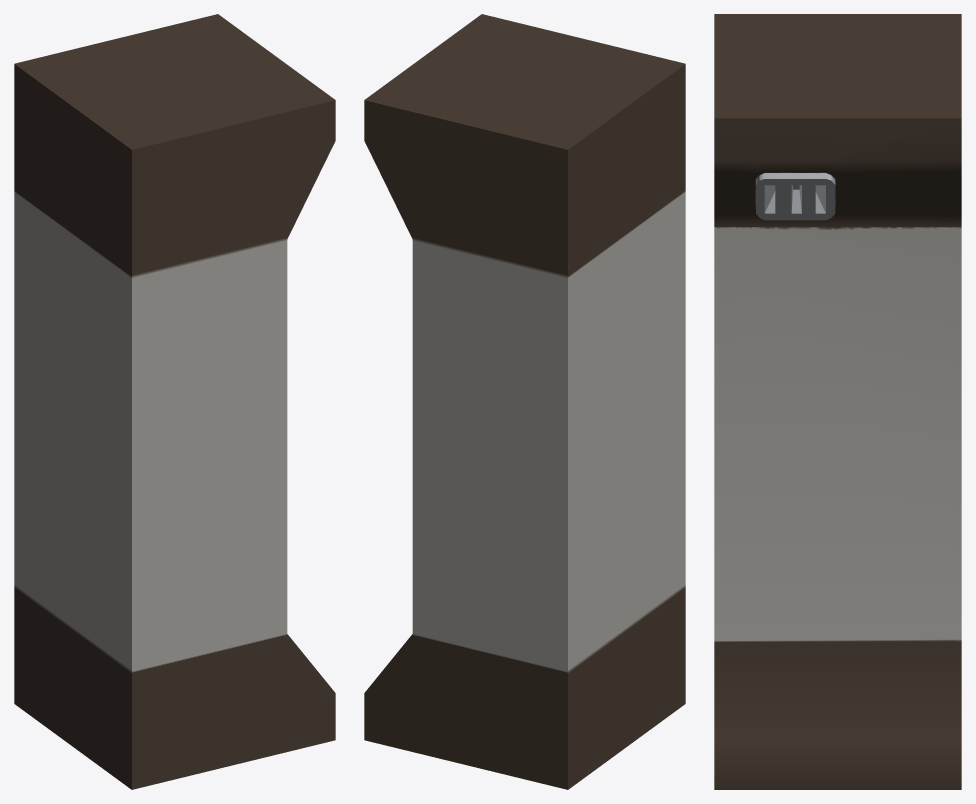
The model's file is Vent_Wall.fbx.
3 renders of one model, left to right at view 1: azimuth 30°, elevation 25°; view 2: azimuth 150°, elevation 25°; view 3: azimuth 270°, elevation 25°, orthographic. The views are drawn at different scales.
Parts seen in each view (by area): view 1: Wall_Ver_VENT:pCube1; view 2: Wall_Ver_VENT:pCube1; view 3: Wall_Ver_VENT:pCube1.
Boxes of the visible parts, x1=… form: Wall_Ver_VENT:pCube1: x1=14, y1=14, x2=335, y2=789; Wall_Ver_VENT:pCube1: x1=364, y1=14, x2=685, y2=789; Wall_Ver_VENT:pCube1: x1=714, y1=14, x2=961, y2=789.
Bounding box in the file's own units: 100 × 300 × 100.
1 material, 1 textured.
